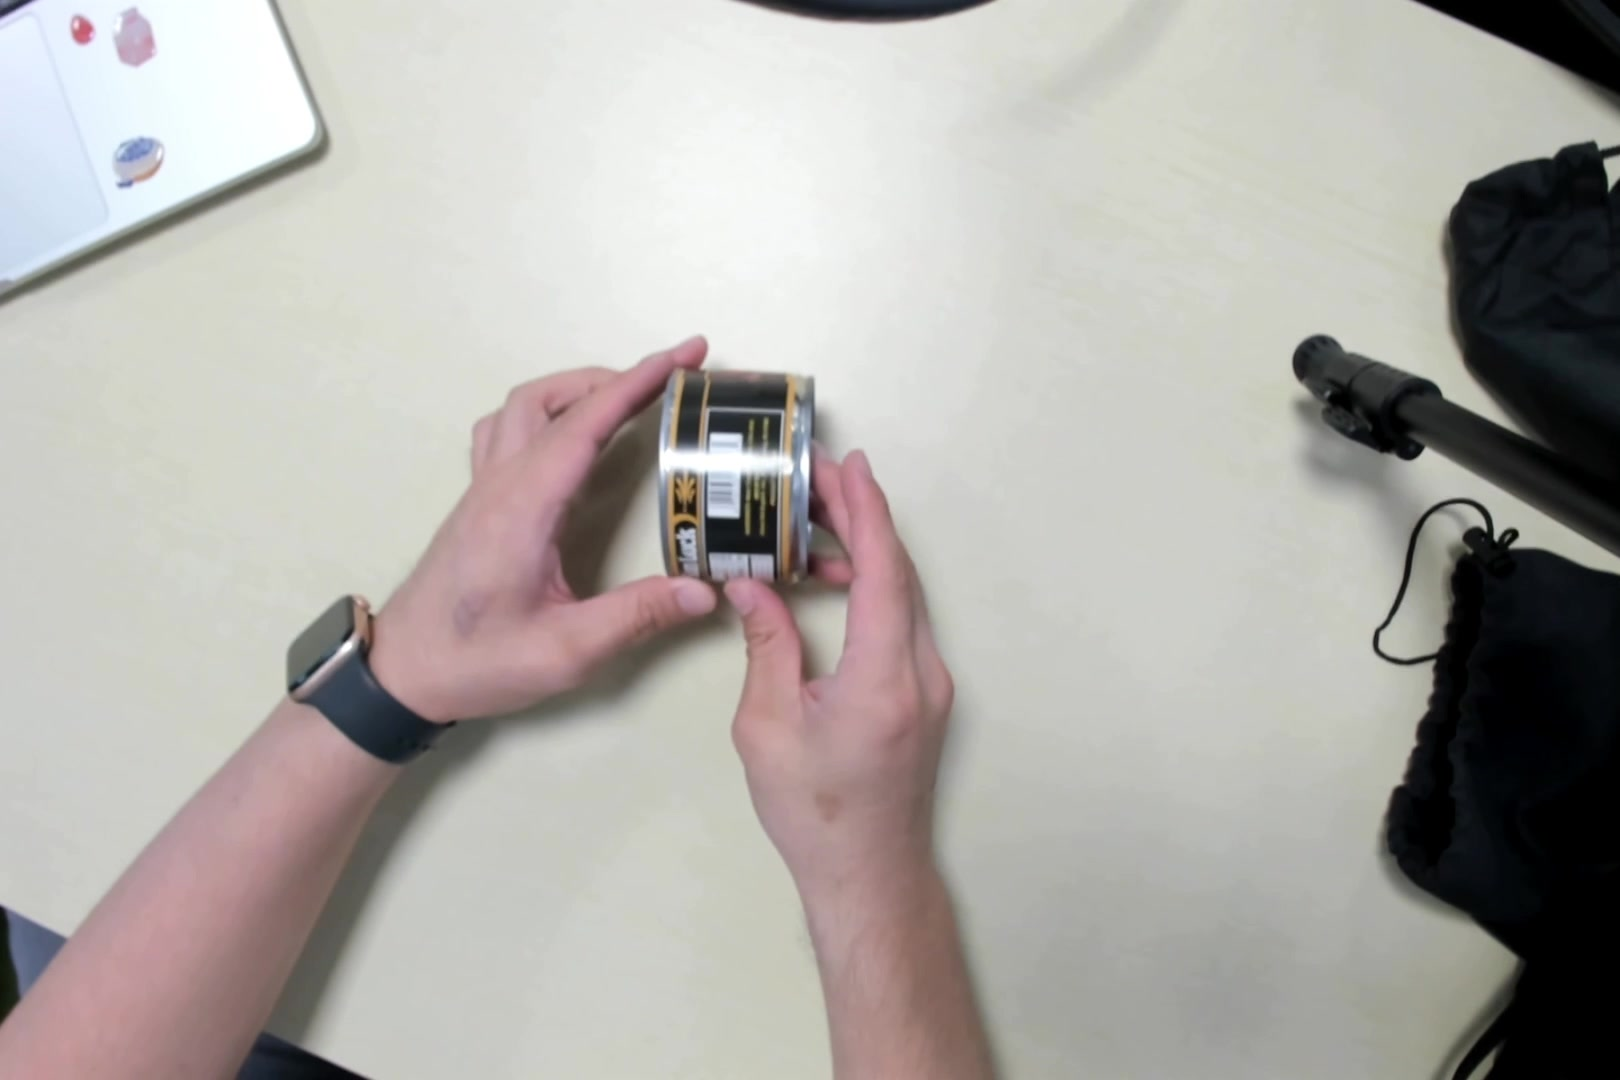CannedVegetarianFood_100-199g_Halal_NonHealthy: (657, 371, 818, 589)
